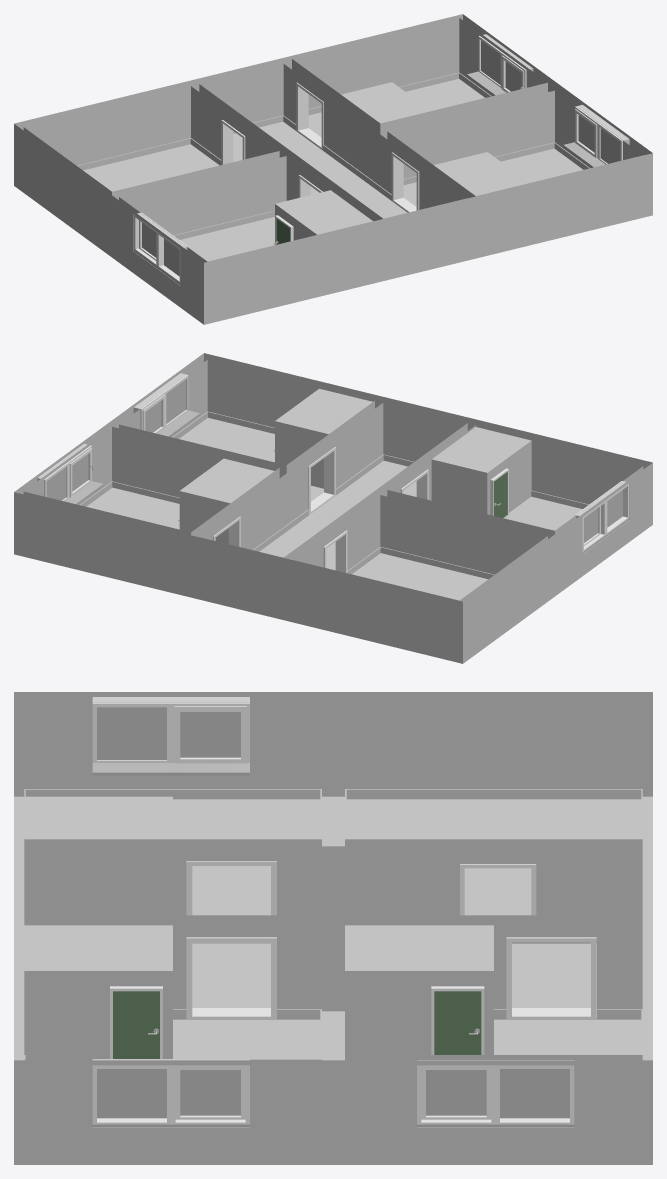
Rendered from Hallway.fbx.
3 views of the same model, one above another, from view 1: azimuth 30°, elevation 25°; view 2: azimuth 150°, elevation 25°; view 3: azimuth 270°, elevation 25° (orthographic). The views are drawn at different scales.
Visible parts, largest first — view 1: Rooms_2, window_2, window, DoorFrame_1, DoorFrame, DoorFrame_3; view 2: Rooms_2, window_2, window, DoorFrame, DoorFrame_3, wcDoor; view 3: Rooms_2, window_2, window, wcDoor, WcDoor, DoorFrame, DoorFrame_1, DoorFrame_2, DoorFrame_3, Doorframe_2, BooleWindow_2, Doorframe.
Part boxes in pixels (box(x1,y1,x2,y2)): Rooms_2: box(14, 14, 652, 324); window_2: box(134, 106, 622, 285); window: box(467, 36, 526, 95); DoorFrame_1: box(296, 82, 323, 150); DoorFrame: box(391, 152, 419, 212); DoorFrame_3: box(221, 120, 245, 164); Rooms_2: box(14, 353, 652, 663); window_2: box(140, 375, 629, 553); window: box(44, 445, 103, 504); DoorFrame: box(308, 447, 335, 514); DoorFrame_3: box(323, 530, 347, 573); wcDoor: box(494, 472, 507, 517); Rooms_2: box(14, 692, 652, 1164); window_2: box(92, 702, 249, 1127); window: box(417, 1065, 574, 1127); wcDoor: box(113, 991, 159, 1058); WcDoor: box(434, 991, 481, 1054); DoorFrame: box(186, 937, 276, 1019); DoorFrame_1: box(506, 937, 596, 1019); DoorFrame_2: box(186, 861, 276, 943); DoorFrame_3: box(460, 864, 536, 915); Doorframe_2: box(431, 986, 484, 1054); BooleWindow_2: box(92, 697, 249, 701); Doorframe: box(110, 986, 162, 1058).
Bounding box in the file's own units: 3825 × 507 × 2804.
